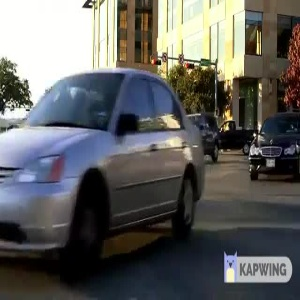car: (1, 79, 209, 247)
